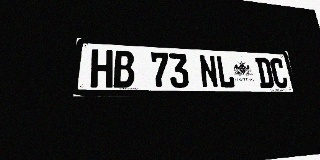3: (169, 53, 189, 88)
7: (149, 52, 170, 88)
B: (113, 50, 135, 88)
C: (269, 58, 289, 88)
D: (255, 57, 275, 88)
H: (90, 49, 113, 88)
L: (215, 55, 236, 88)
N: (198, 54, 219, 88)
